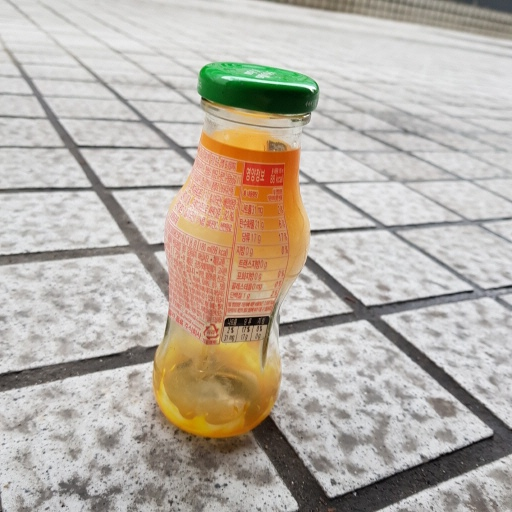Glass_4: (150, 62, 320, 444)
